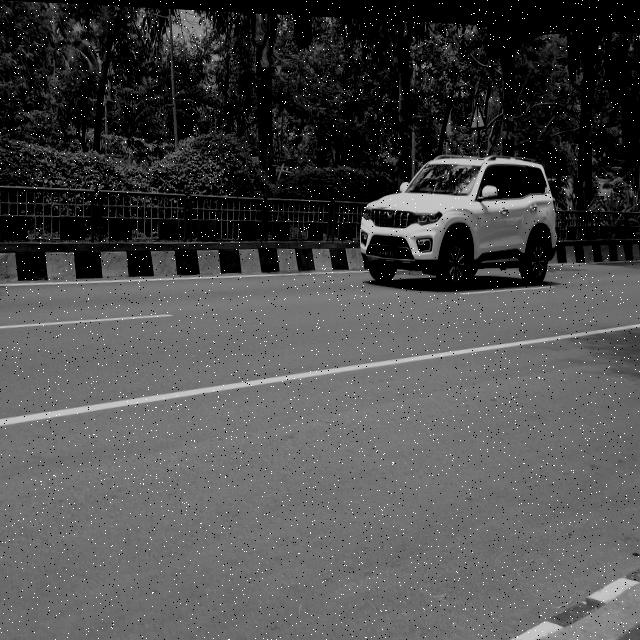car: (356, 140, 561, 291)
